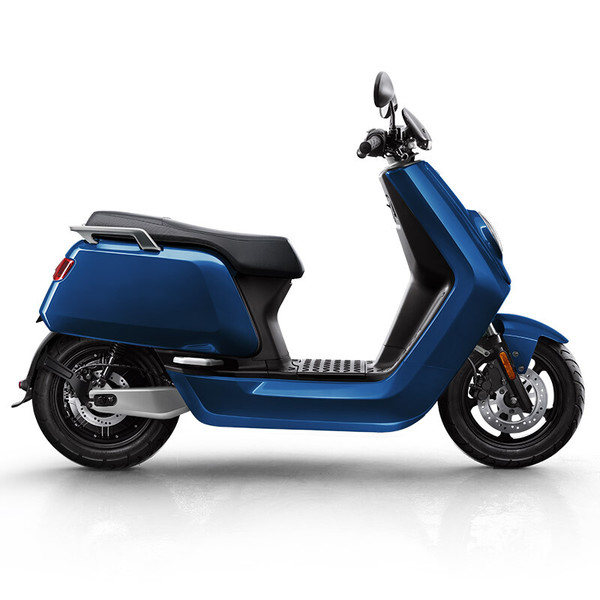MNV: (28, 76, 584, 494)
